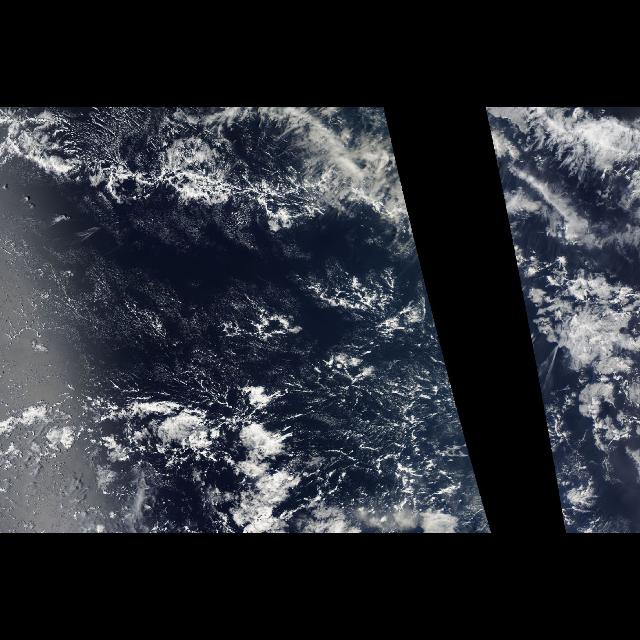Fish: (1, 108, 416, 242)
Gravel: (3, 228, 483, 532)
Sugar: (2, 199, 276, 399)
